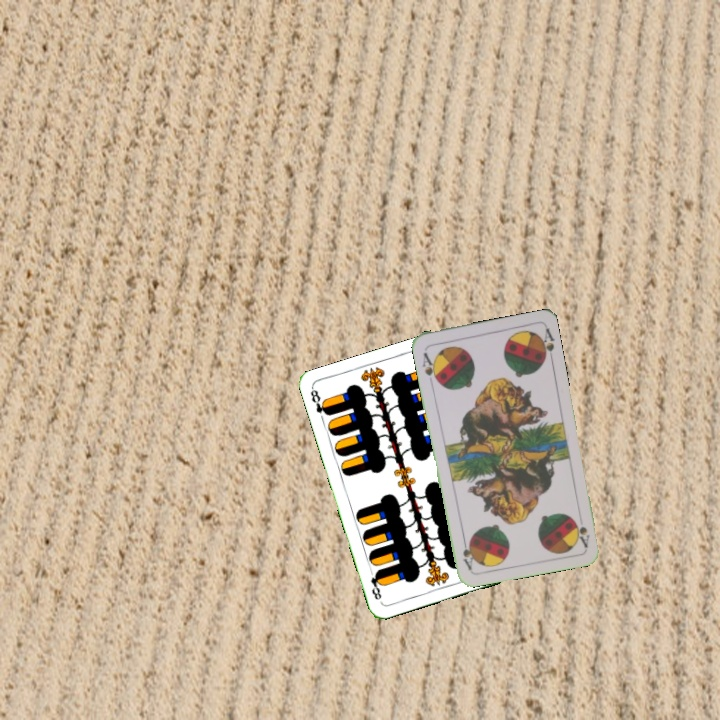E8: (306, 385, 332, 418)
SA: (418, 348, 441, 385), (569, 514, 592, 550)
